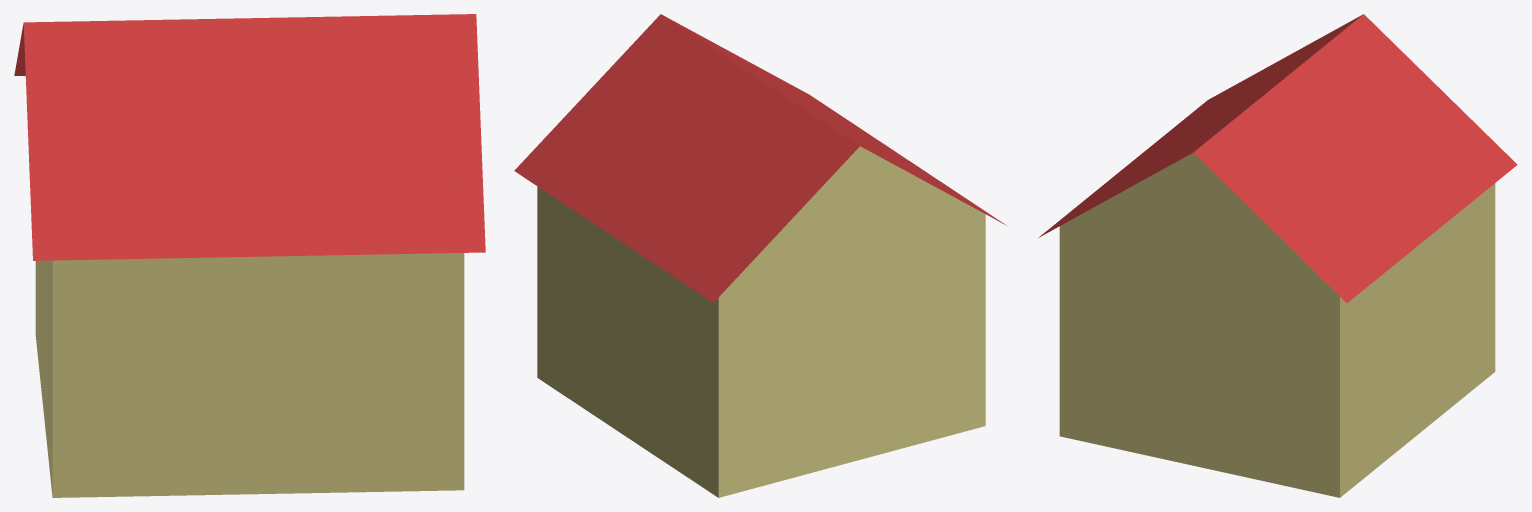
3 renders of one model, left to right at view 1: azimuth 30°, elevation 25°; view 2: azimuth 150°, elevation 25°; view 3: azimuth 270°, elevation 25°, orthographic. The views are drawn at different scales.
Size of the model in its own units: 14.67 by 14.41 by 10.63.
